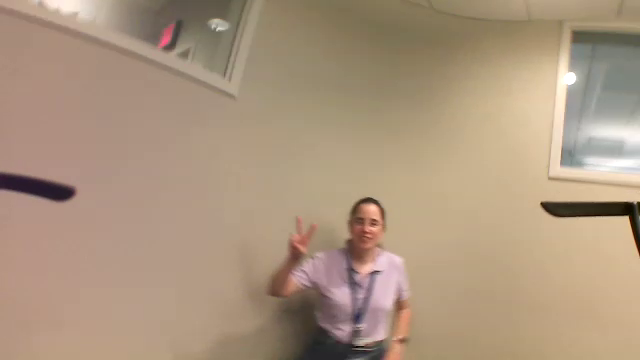peace: (281, 209, 320, 260)
